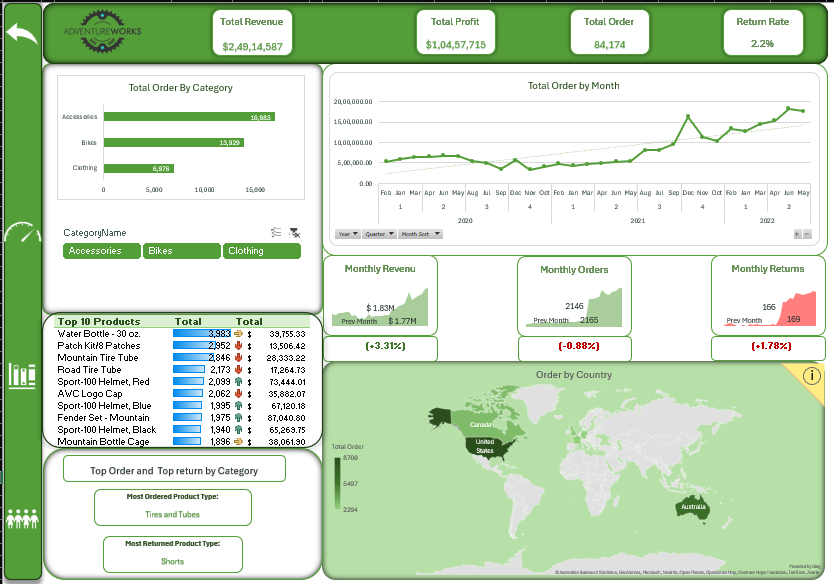

What the dashboard file says about the page in this screenshot:
{"tool":"powerbi","page":{"name":"Exc DB","canvas":[1280,720],"ordinal":0},"visuals":[{"type":"shape","box":[523.3,8,224,102],"z":0},{"type":"shape","box":[1028,8,226,102],"z":1000},{"type":"shape","box":[270,8,226,102],"z":2000},{"type":"shape","box":[774.7,8,226,102],"z":3000},{"type":"card","fields":{"Values":["Measure Table.Total Revenue"]},"box":[270,8.6,225.7,101.4],"z":4000},{"type":"card","fields":{"Values":["Measure Table.Total Profit"]},"box":[520,8.3,226.7,101.7],"z":5000},{"type":"card","fields":{"Values":["Measure Table.Total Orders"]},"box":[775,8.3,226.7,101.7],"z":6000},{"type":"card","fields":{"Values":["Measure Table.Return Rate"]},"box":[1028.3,8.3,226.7,101.7],"z":7000},{"type":"image","box":[78.3,0,168.3,155.2],"z":8000},{"type":"shape","box":[0,0,56,720],"z":9000},{"type":"lineChart","title":"Revenue by Week","fields":{"Category":["Calendar Lookup.Start of Week"],"Y":["Measure Table.Total Revenue"]},"box":[56.1,155.2,718.7,288.3],"z":10000},{"type":"clusteredBarChart","title":"Orders by Category","fields":{"Category":["Product Categories Lookup.CategoryName"],"Y":["Measure Table.Total Orders"]},"box":[774.8,109.6,504.8,190.4],"z":11000},{"type":"pivotTable","fields":{"Rows":["Product Lookup.ProductName"],"Values":["Measure Table.Total Orders","Measure Table.Total Revenue","Measure Table.Return Rate"]},"box":[776.1,300,490.4,223],"z":12000},{"type":"kpi","title":"Monthly Revenue","fields":{"Indicator":["Measure Table.Total Revenue"],"TrendLine":["Calendar Lookup.Date Hierarchy.Start of Month"],"Goal":["Measure Table.Prev Month Revenue"]},"box":[56.1,494.3,235,186.5],"z":13000},{"type":"kpi","title":"Monthly Order","fields":{"TrendLine":["Calendar Lookup.Date Hierarchy.Start of Month"],"Indicator":["Measure Table.Total Orders"],"Goal":["Measure Table.Prev Month Orders"]},"box":[298.2,494.3,234.8,186.5],"z":14000},{"type":"kpi","title":"Monthly Revenue","fields":{"TrendLine":["Calendar Lookup.Date Hierarchy.Start of Month"],"Indicator":["Measure Table.Total Returns"],"Goal":["Measure Table.Prev Month Returns"]},"box":[540,494.3,234.8,186.5],"z":15000},{"type":"card","fields":{"Values":["Min(Product Subcategories Lookup.SubcategoryName)"]},"box":[774.8,568.7,489.1,56.1],"z":16000},{"type":"card","fields":{"Values":["Min(Product Subcategories Lookup.SubcategoryName)"]},"box":[776.1,665.2,489.1,54.8],"z":17000},{"type":"textbox","box":[774.8,537.4,324.8,31.3],"z":18000},{"type":"textbox","box":[774.8,633.9,323.5,31.3],"z":19000},{"type":"actionButton","box":[0,0,55.6,39.5],"z":20000},{"type":"actionButton","box":[0,497.6,55.4,50.1],"z":21000},{"type":"actionButton","box":[0,584,55.4,50.1],"z":22000},{"type":"actionButton","box":[0,669.9,55.4,50.1],"z":23000},{"type":"actionButton","box":[0,411.2,55.4,50.1],"z":24000}]}

Visuals, with their boxes on the page's 1280x720 design canvas (x1, y1, x2, y2). These are canvas units, not pixel positions in the 834x584 screenshot, which may show the page scaled, cropped or inside an application window:
shape: <bbox>523, 8, 747, 110</bbox>
shape: <bbox>1028, 8, 1254, 110</bbox>
shape: <bbox>270, 8, 496, 110</bbox>
shape: <bbox>775, 8, 1001, 110</bbox>
card - Measure Table.Total Revenue: <bbox>270, 9, 496, 110</bbox>
card - Measure Table.Total Profit: <bbox>520, 8, 747, 110</bbox>
card - Measure Table.Total Orders: <bbox>775, 8, 1002, 110</bbox>
card - Measure Table.Return Rate: <bbox>1028, 8, 1255, 110</bbox>
image: <bbox>78, 0, 247, 155</bbox>
shape: <bbox>0, 0, 56, 720</bbox>
"Revenue by Week" lineChart: <bbox>56, 155, 775, 444</bbox>
"Orders by Category" clusteredBarChart: <bbox>775, 110, 1280, 300</bbox>
pivotTable - Product Lookup.ProductName x Measure Table.Total Orders: <bbox>776, 300, 1266, 523</bbox>
"Monthly Revenue" kpi: <bbox>56, 494, 291, 681</bbox>
"Monthly Order" kpi: <bbox>298, 494, 533, 681</bbox>
"Monthly Revenue" kpi: <bbox>540, 494, 775, 681</bbox>
card - Min(Product Subcategories Lookup.SubcategoryName): <bbox>775, 569, 1264, 625</bbox>
card - Min(Product Subcategories Lookup.SubcategoryName): <bbox>776, 665, 1265, 720</bbox>
textbox: <bbox>775, 537, 1100, 569</bbox>
textbox: <bbox>775, 634, 1098, 665</bbox>
actionButton: <bbox>0, 0, 56, 40</bbox>
actionButton: <bbox>0, 498, 55, 548</bbox>
actionButton: <bbox>0, 584, 55, 634</bbox>
actionButton: <bbox>0, 670, 55, 720</bbox>
actionButton: <bbox>0, 411, 55, 461</bbox>
